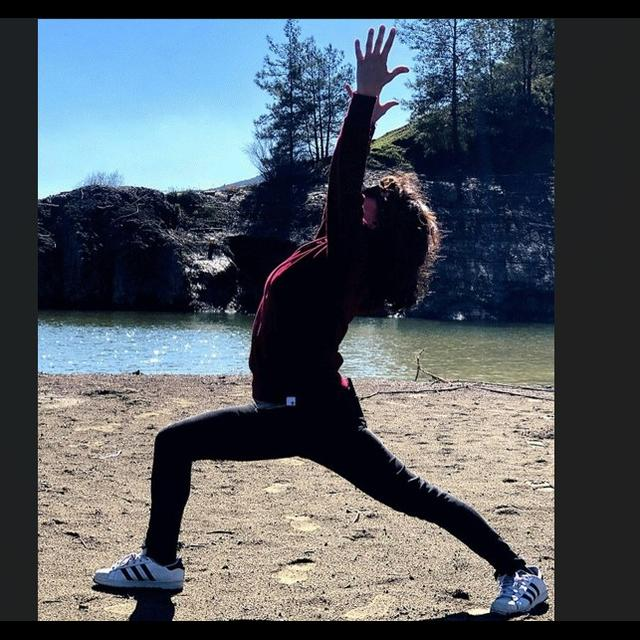Warrior_I: (95, 25, 547, 614)
